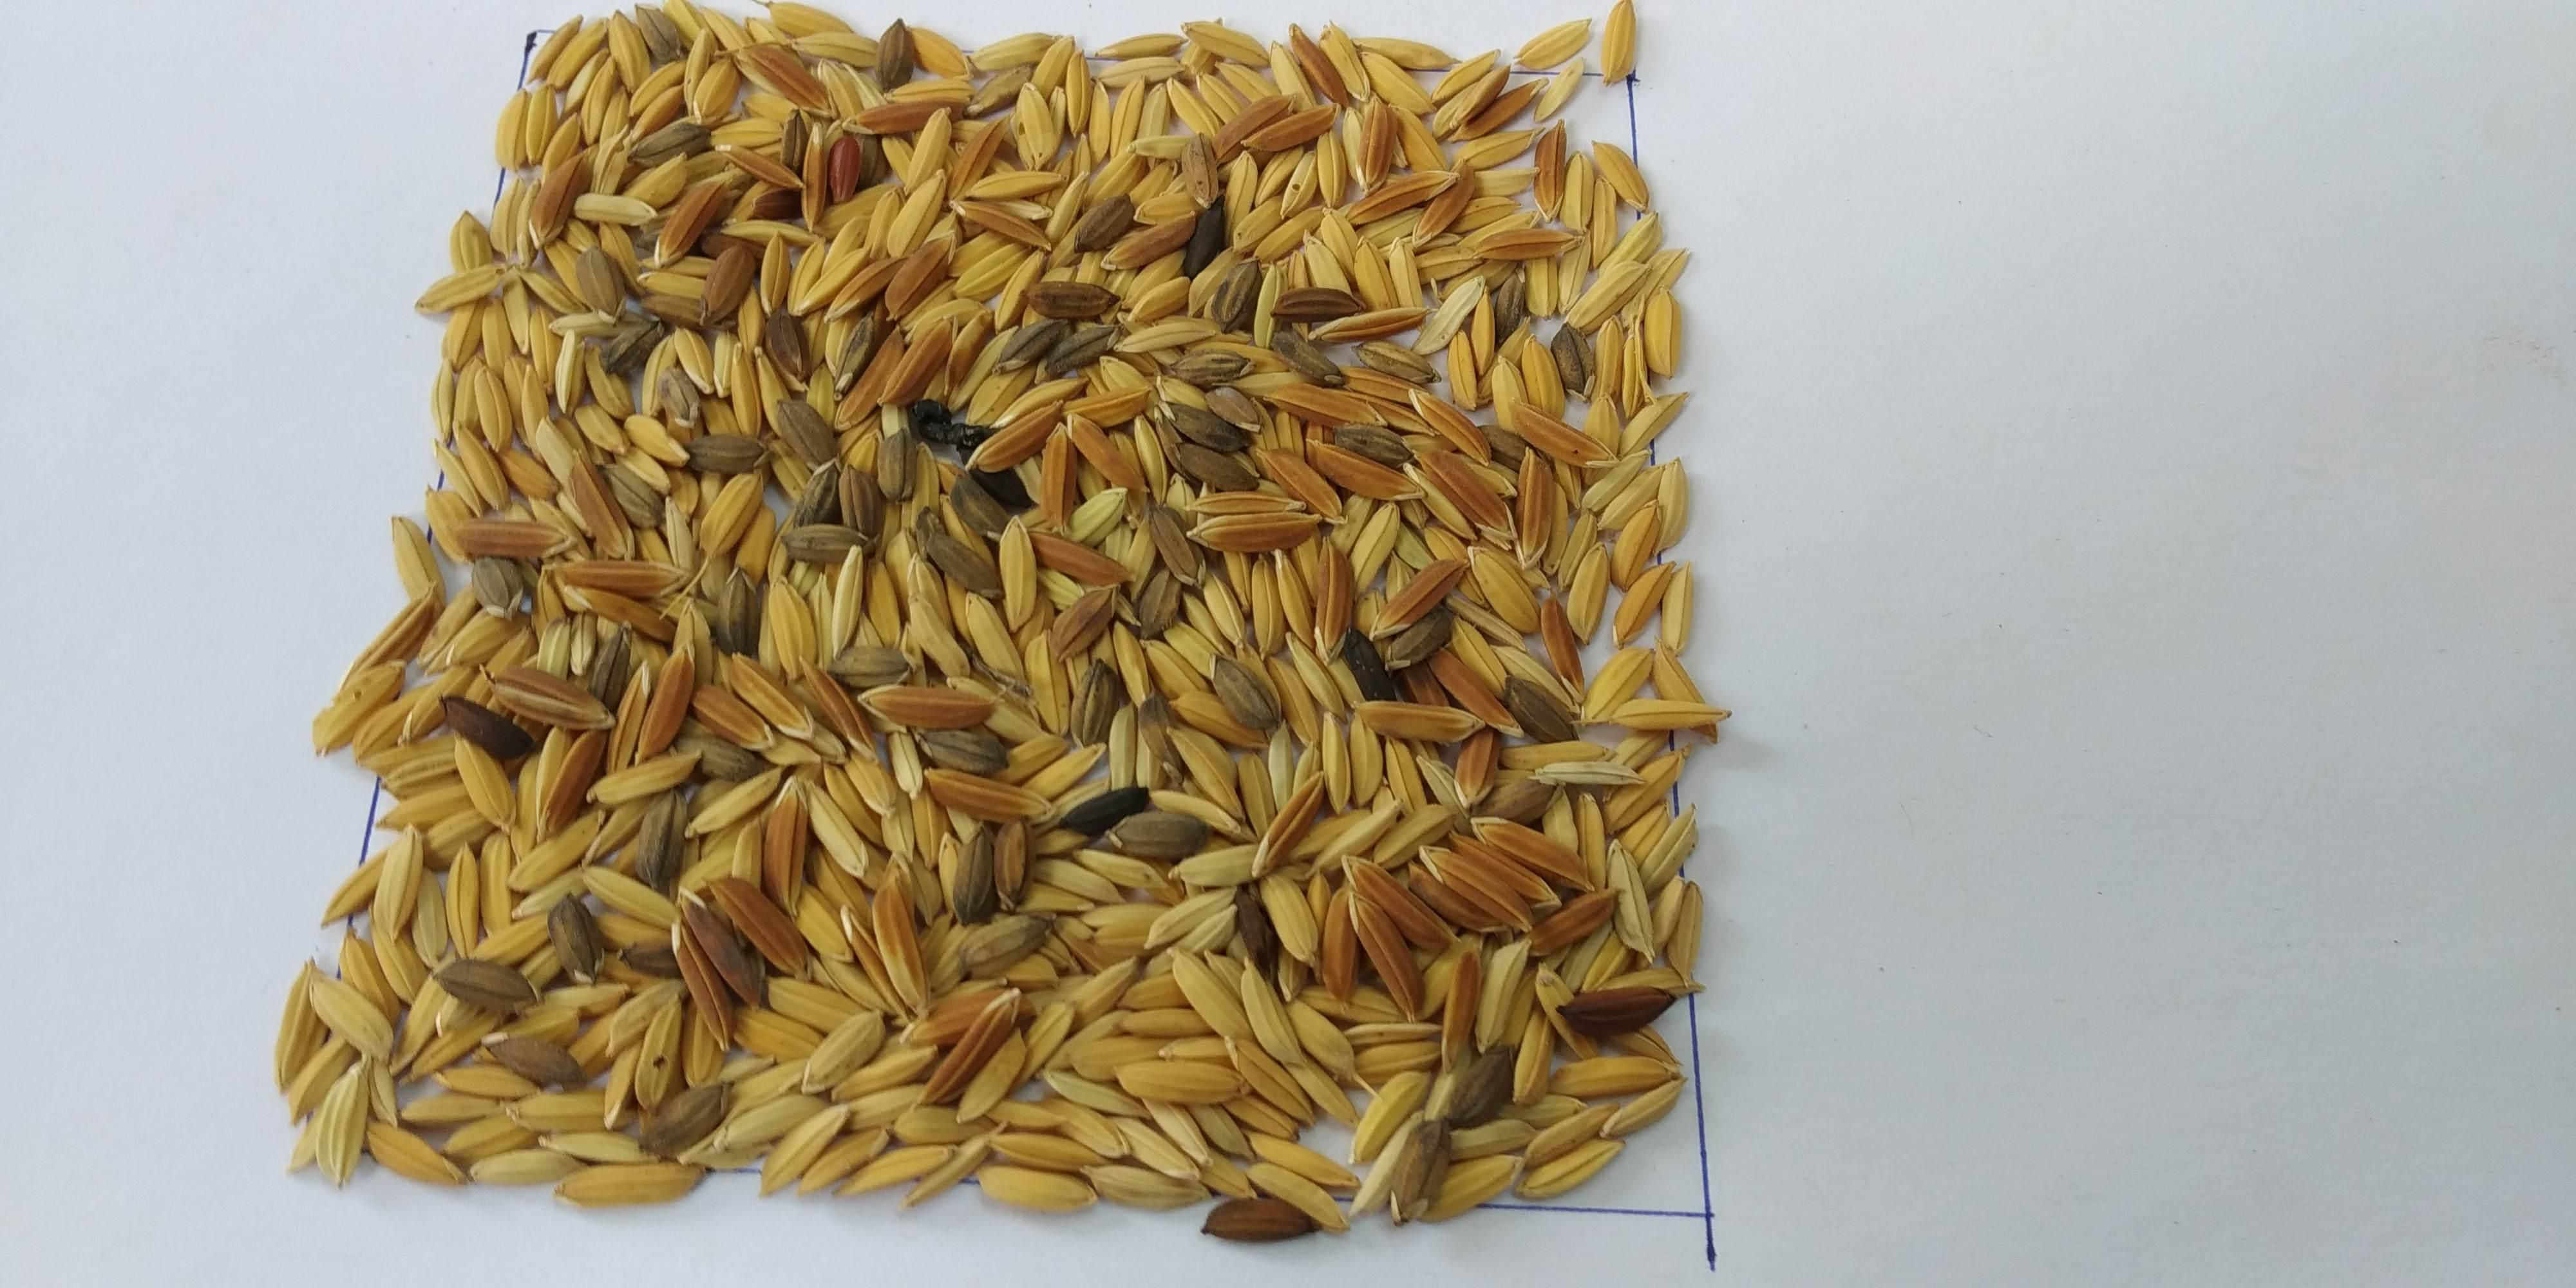impure: (524, 39, 1587, 1163)
